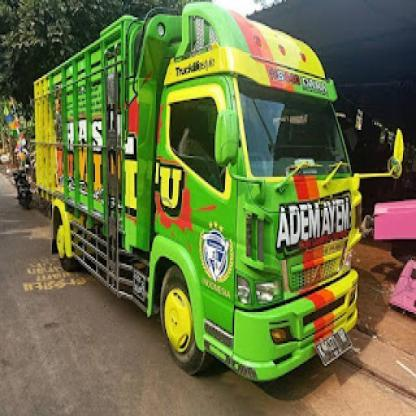truck: (35, 1, 404, 384)
